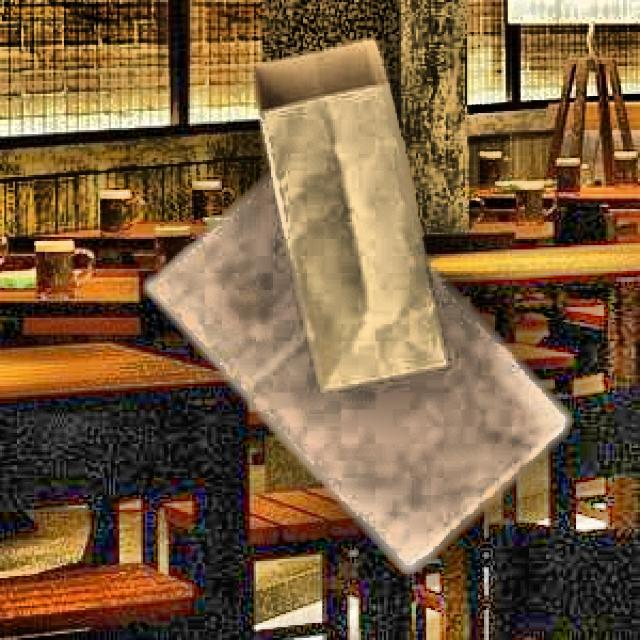Paper-bag: (136, 140, 566, 576), (243, 20, 464, 405)
